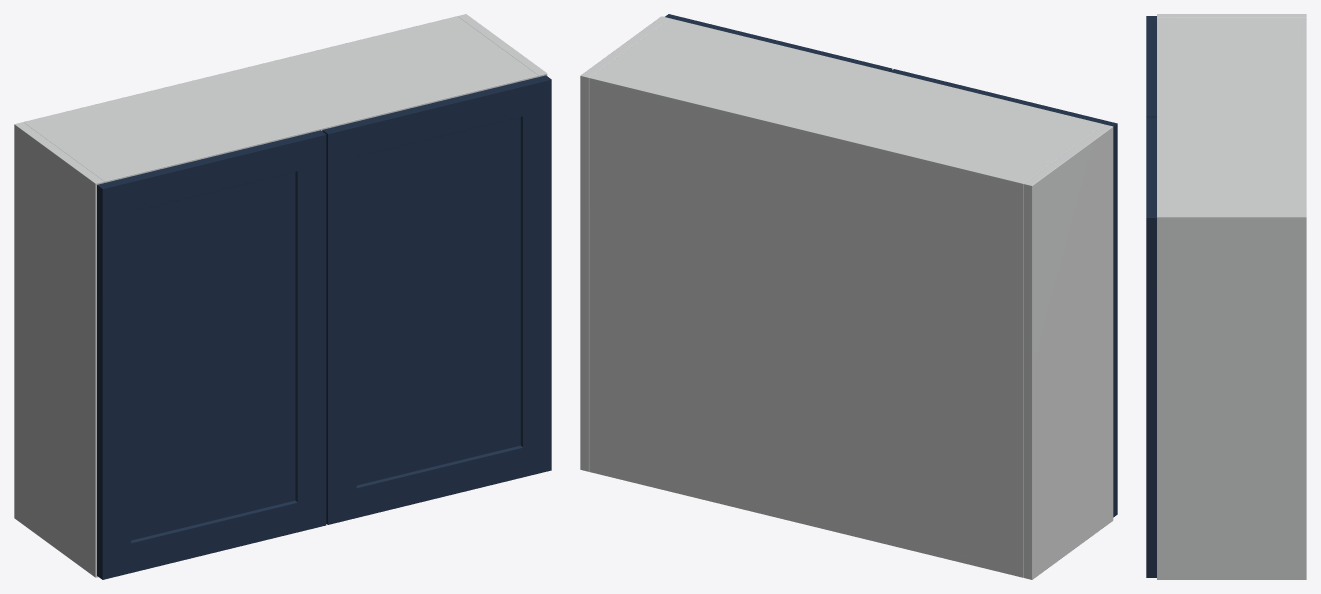
Rendered from oppein-ply-bss-w3630.glb.
3 views of the same model, side by side, from view 1: azimuth 30°, elevation 25°; view 2: azimuth 150°, elevation 25°; view 3: azimuth 270°, elevation 25° (orthographic). The views are drawn at different scales.
Parts seen in each view (by area): view 1: Door, Door.001, Cabinet top, Cabinet side, Cabinet back, Cabinet side.001; view 2: Cabinet back, Cabinet top, Cabinet side, Cabinet side.001, Door, Cabinet bottom, Door.001; view 3: Cabinet side.001, Cabinet top, Door.001, Cabinet back, Door, Cabinet side.
Part boxes in pixels (<box>): Door: <box>97,130,326,579</box>; Door.001: <box>322,75,551,524</box>; Cabinet top: <box>23,18,538,182</box>; Cabinet side: <box>14,122,104,577</box>; Cabinet back: <box>24,16,459,124</box>; Cabinet side.001: <box>458,14,547,76</box>; Cabinet back: <box>589,75,1026,577</box>; Cabinet top: <box>589,18,1103,192</box>; Cabinet side: <box>1023,124,1113,579</box>; Cabinet side.001: <box>580,16,669,471</box>; Door: <box>890,69,1117,517</box>; Cabinet bottom: <box>589,467,1023,577</box>; Door.001: <box>665,14,892,71</box>; Cabinet side.001: <box>1157,213,1306,579</box>; Cabinet top: <box>1157,18,1306,213</box>; Door.001: <box>1146,117,1156,577</box>; Cabinet back: <box>1300,18,1306,213</box>; Door: <box>1146,16,1156,117</box>; Cabinet side: <box>1157,14,1306,17</box>.
Bounding box in the file's own units: 0.9144 × 0.762 × 0.3048.
